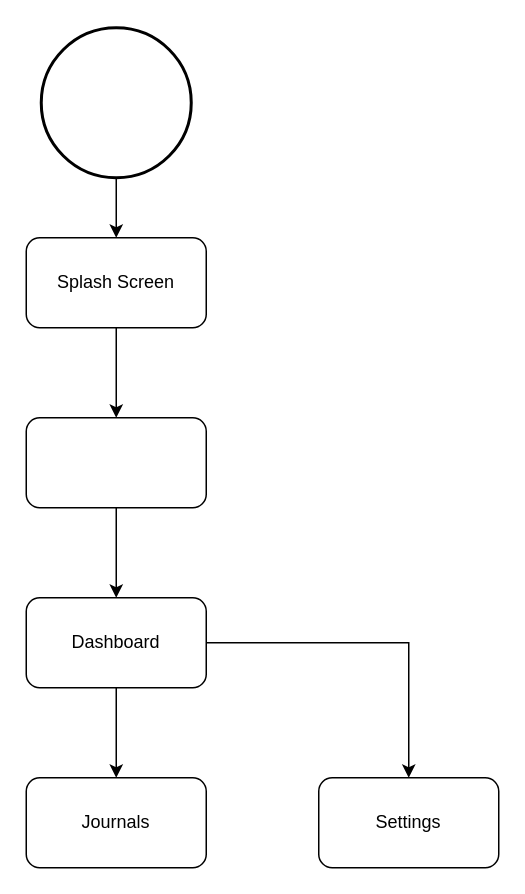
This 525x894 diagram has some shape labels left out. The centre of each missing label's shape, as x and y in pixels:
"Start" goes at [115,102].
"User Login / Account Creation" goes at [115,462].
